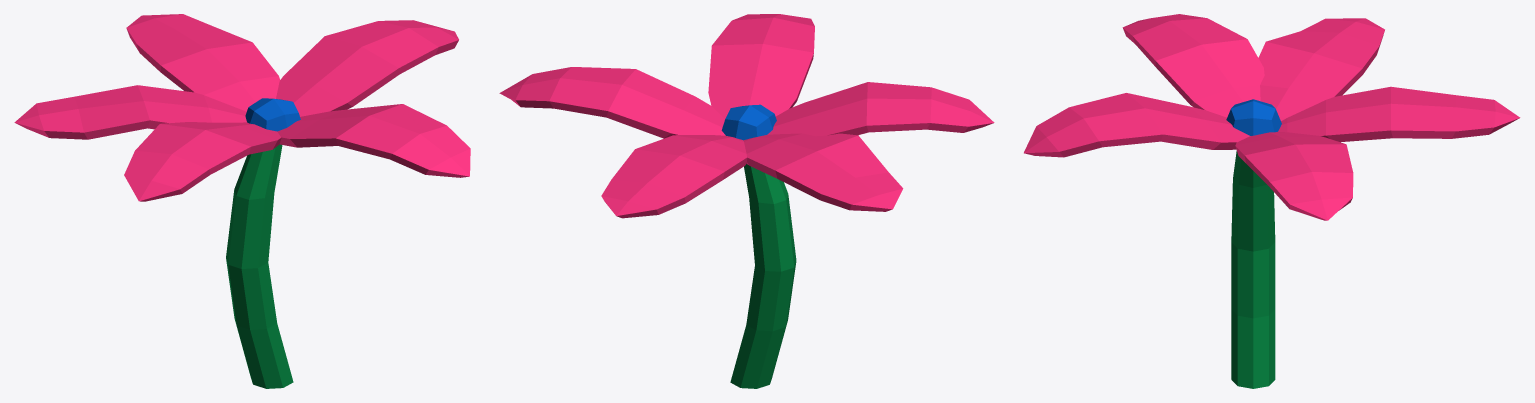
File: Flower3.fbx
3 views of the same model, side by side, from view 1: azimuth 30°, elevation 25°; view 2: azimuth 150°, elevation 25°; view 3: azimuth 270°, elevation 25° (orthographic). The views are drawn at different scales.
Visible parts, largest first — view 1: Flower3; view 2: Flower3; view 3: Flower3.
Boxes of the visible parts, box(x1,y1,x2,y2) form: Flower3: box(14, 14, 470, 388); Flower3: box(499, 14, 994, 388); Flower3: box(1024, 14, 1520, 388).
Size of the model in its own units: 23.59 by 15.7 by 24.22.
1 material, 1 textured.
